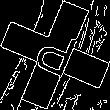P_SW: (28, 24, 82, 86)
